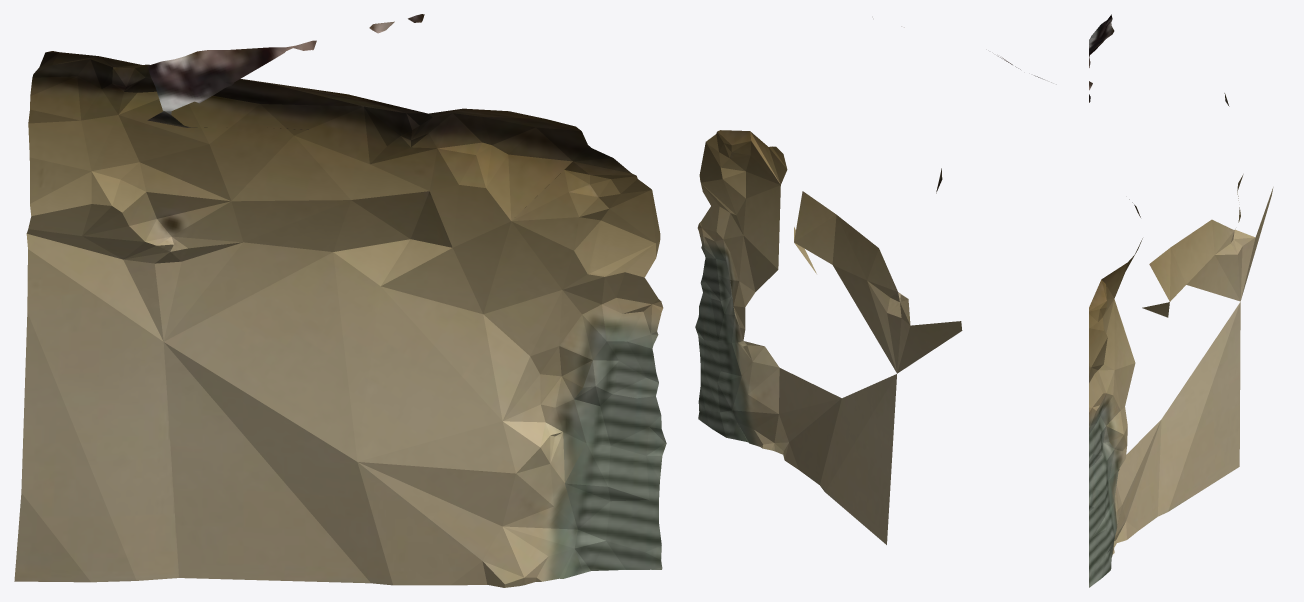
3 renders of one model, left to right at view 1: azimuth 30°, elevation 25°; view 2: azimuth 150°, elevation 25°; view 3: azimuth 270°, elevation 25°, orthographic. The views are drawn at different scales.
Bounding box in the file's own units: 1.44 × 1.67 × 0.7419.
Materials: 2 (2 with a texture image).
